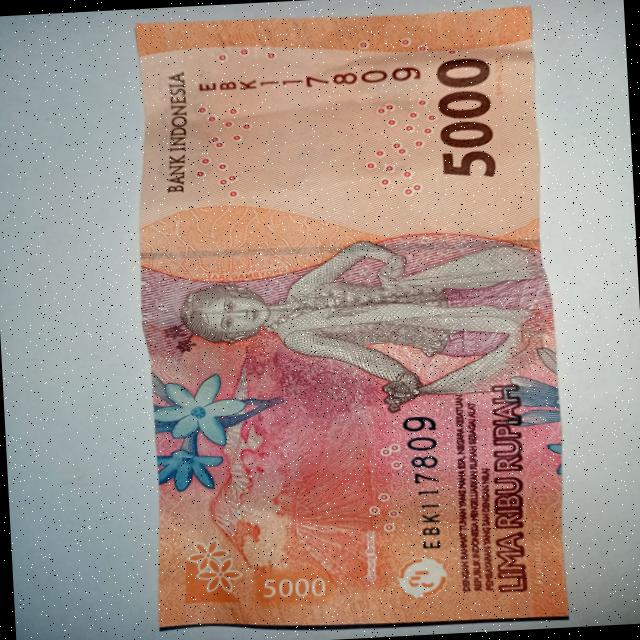5K: (109, 0, 600, 640)
